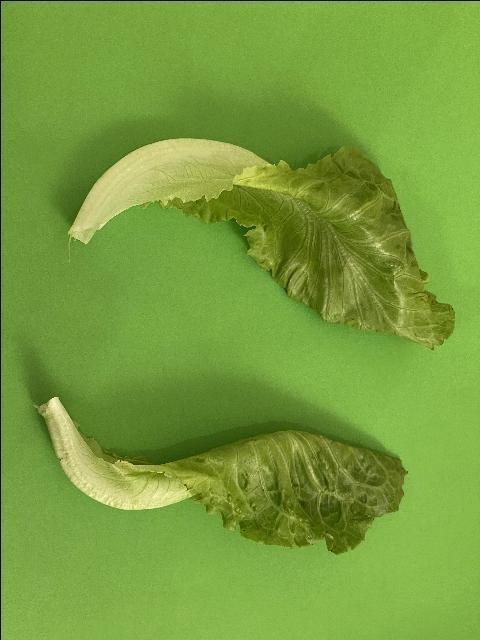lettuce: (63, 135, 456, 355), (28, 392, 408, 556)
